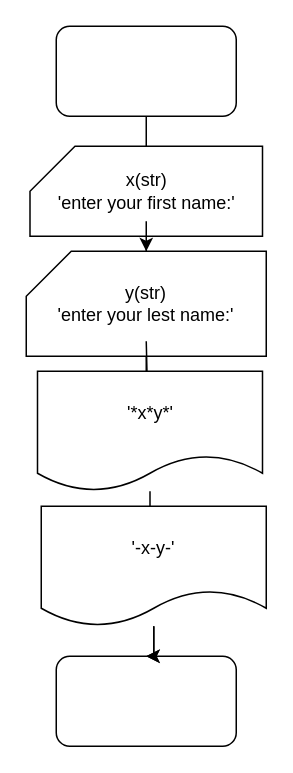
The diagram is 293 pixels wide and 773 high, and some of its shapes have lost their labels. Each missing label, with the box of its shape:
end: (55, 655, 236, 746)
start: (55, 25, 236, 116)
